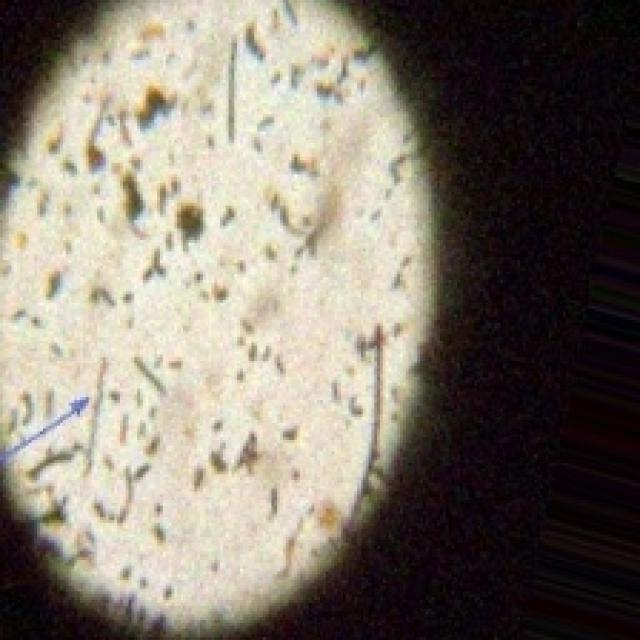Rod_bacteria: (0, 0, 446, 637)
